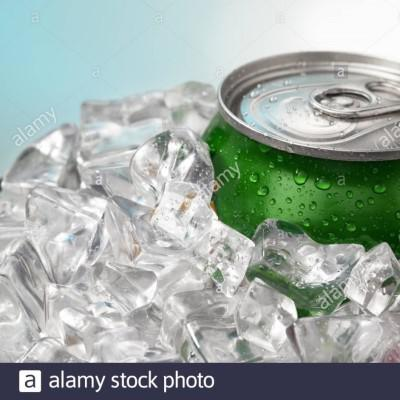beer: (199, 49, 400, 257)
